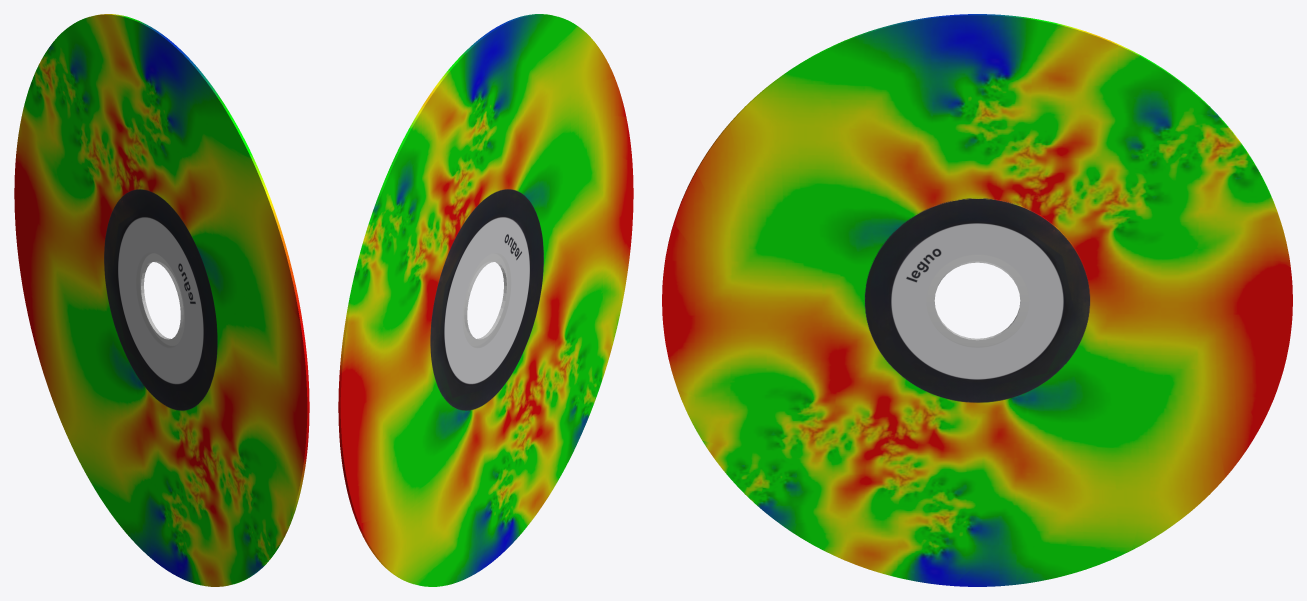
Rendered from CD_Legno.glb.
3 views of the same model, side by side, from view 1: azimuth 30°, elevation 25°; view 2: azimuth 150°, elevation 25°; view 3: azimuth 270°, elevation 25° (orthographic). The views are drawn at different scales.
Visible parts, largest first — view 1: CD; view 2: CD; view 3: CD.
Boxes of the visible parts, x1,y1,x2,y2 form: CD: (14,14,309,586); CD: (338,14,633,586); CD: (662,14,1292,586).
Bounding box in the file's own units: 0.0111 × 1.87 × 1.87.
Materials: 2 (2 with a texture image).
